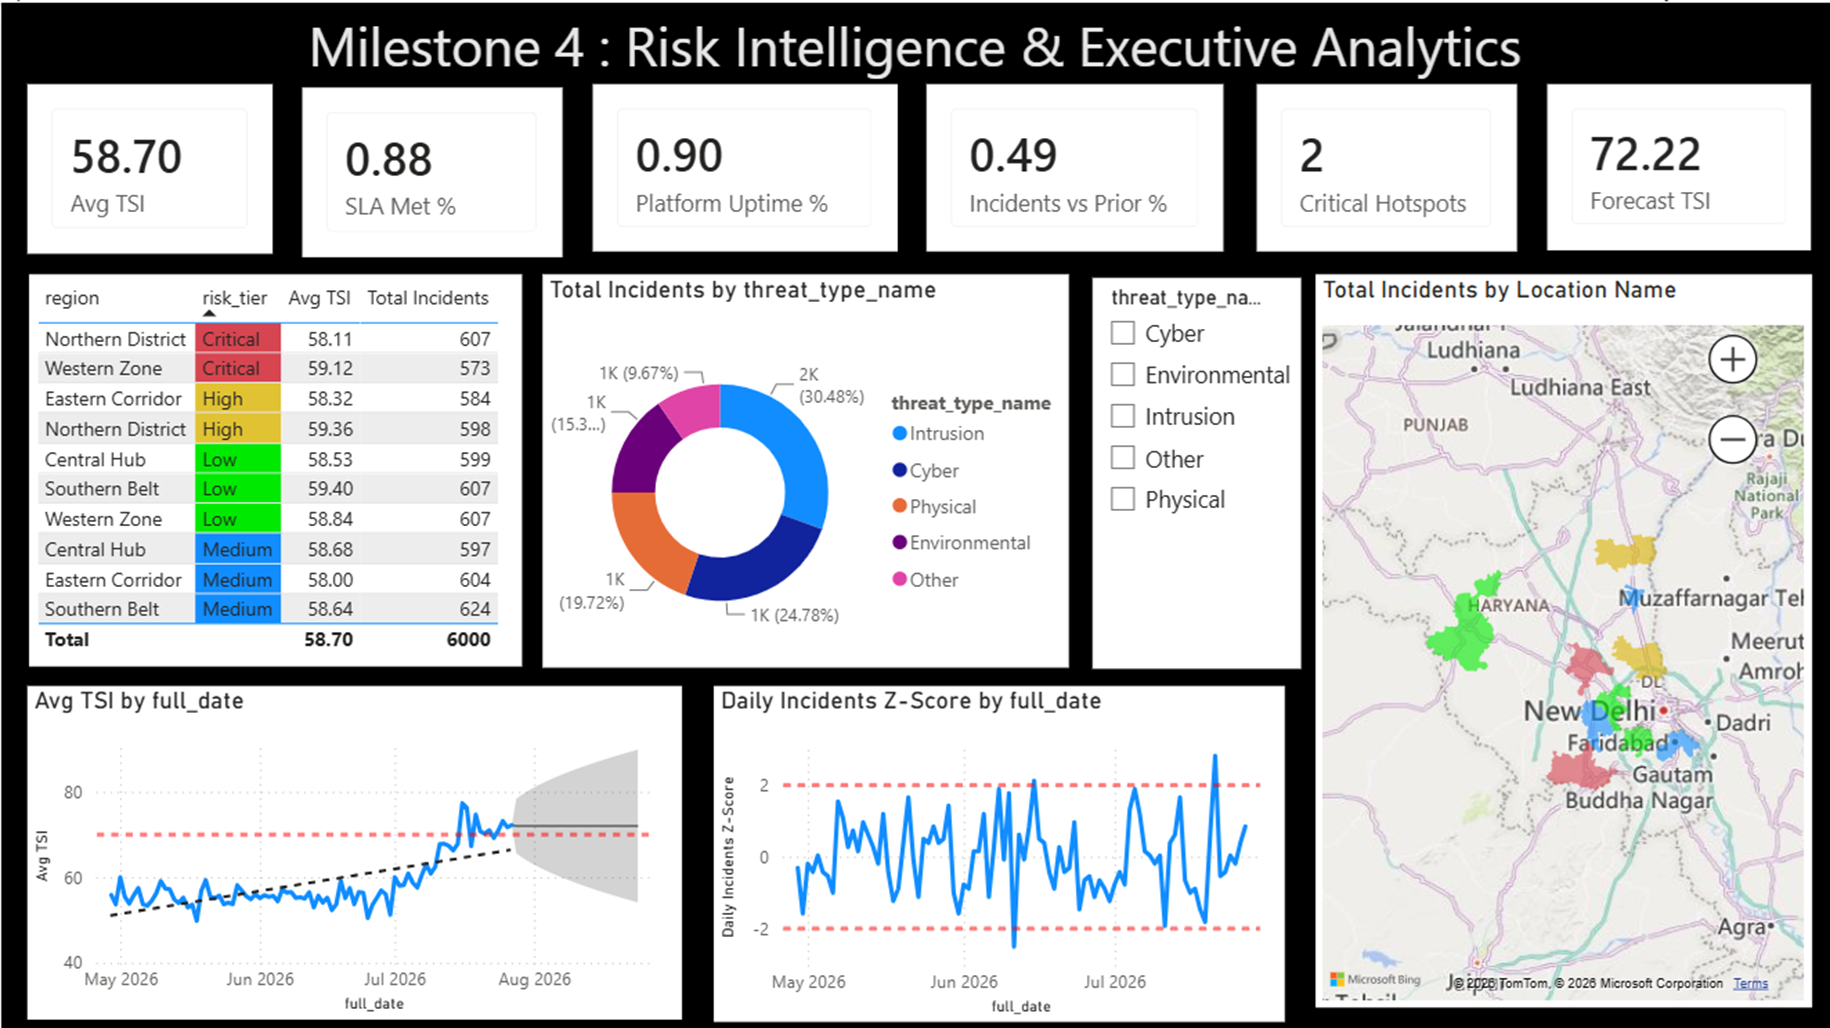

The page's visual inventory and layout, read from the dashboard file:
{"tool":"powerbi","page":{"name":"Page 4","canvas":[1280,720],"ordinal":3},"visuals":[{"type":"textbox","box":[10,0,1255.6,67.8],"z":0},{"type":"cardVisual","fields":{"Data":["Fact_Incident.Avg TSI"]},"box":[18.6,57.1,171.4,118.6],"z":1000},{"type":"cardVisual","fields":{"Data":["Fact_Incident.SLA Met %"]},"box":[210,58.6,181.4,118.6],"z":2000},{"type":"cardVisual","fields":{"Data":["Fact_Incident.Platform Uptime %"]},"box":[412.9,57.1,212.9,117.1],"z":3000},{"type":"cardVisual","fields":{"Data":["Fact_Incident.Incidents vs Prior %"]},"box":[645.7,57.1,207.1,117.1],"z":4000},{"type":"cardVisual","fields":{"Data":["Fact_Incident.Critical Hotspots"]},"box":[875.7,57.1,181.4,117.1],"z":5000},{"type":"tableEx","fields":{"Values":["Dim_Geo.region","Dim_Geo.risk_tier","Fact_Incident.Avg TSI","Fact_Incident.Total Incidents"]},"box":[18.8,190,343.8,273.8],"z":6000},{"type":"lineChart","fields":{"Category":["Dim_Time.full_date"],"Y":["Fact_Incident.Avg TSI"]},"box":[18.6,477.1,457.1,232.9],"z":7000},{"type":"slicer","fields":{"Values":["Dim_ThreatType.threat_type_name"]},"box":[761.3,191.8,146,272.7],"z":8000},{"type":"donutChart","fields":{"Category":["Dim_ThreatType.threat_type_name"],"Y":["Fact_Incident.Total Incidents"]},"box":[377.5,190,367.1,274.3],"z":9000},{"type":"cardVisual","fields":{"Data":["Fact_Incident.Forecast TSI"]},"box":[1078.6,57.1,184.3,115.7],"z":10000},{"type":"filledMap","fields":{"Category":["Dim_Geo.Location Name"]},"box":[916.9,189.4,346.2,511.5],"z":11000}]}

Visuals, with their boxes in screenshot pixels (x1, y1, x2, y2), scaled from the page's 1280x720 canvas onto the 1830x1028 screenshot:
textbox: crop(14, 0, 1809, 97)
cardVisual - Fact_Incident.Avg TSI: crop(27, 82, 272, 251)
cardVisual - Fact_Incident.SLA Met %: crop(300, 84, 560, 253)
cardVisual - Fact_Incident.Platform Uptime %: crop(590, 82, 895, 249)
cardVisual - Fact_Incident.Incidents vs Prior %: crop(923, 82, 1219, 249)
cardVisual - Fact_Incident.Critical Hotspots: crop(1252, 82, 1511, 249)
tableEx - Dim_Geo.region x Dim_Geo.risk_tier: crop(27, 271, 518, 662)
lineChart - Dim_Time.full_date x Fact_Incident.Avg TSI: crop(27, 681, 680, 1014)
slicer - Dim_ThreatType.threat_type_name: crop(1088, 274, 1297, 663)
donutChart - Dim_ThreatType.threat_type_name x Fact_Incident.Total Incidents: crop(540, 271, 1065, 663)
cardVisual - Fact_Incident.Forecast TSI: crop(1542, 82, 1806, 247)
filledMap - Dim_Geo.Location Name: crop(1311, 270, 1806, 1001)
